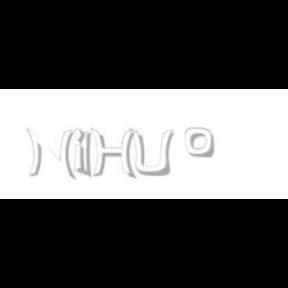H: (90, 128, 136, 180)
N: (25, 128, 74, 180)
U: (128, 128, 174, 178)
i: (73, 128, 89, 176)
l: (80, 128, 96, 180)
o: (184, 128, 214, 158)
